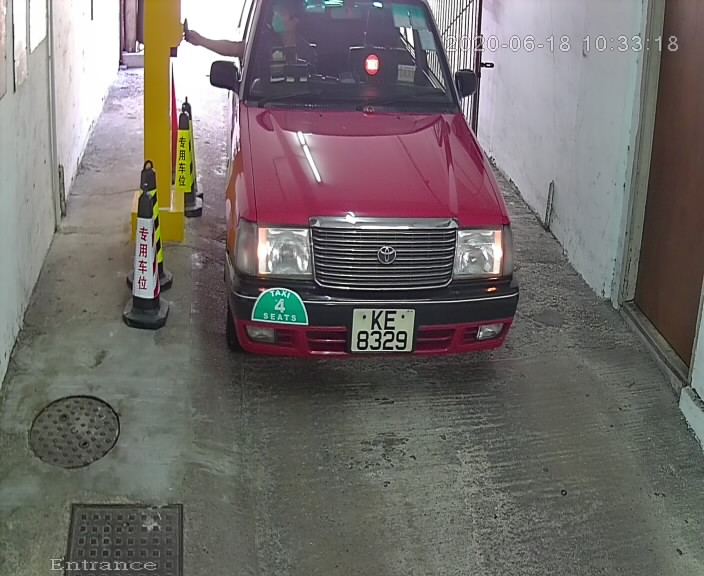taxi: (199, 2, 525, 395)
taxi_mark: (252, 281, 317, 339)
